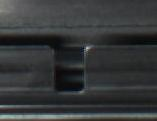oneu: (34, 40, 99, 97)
